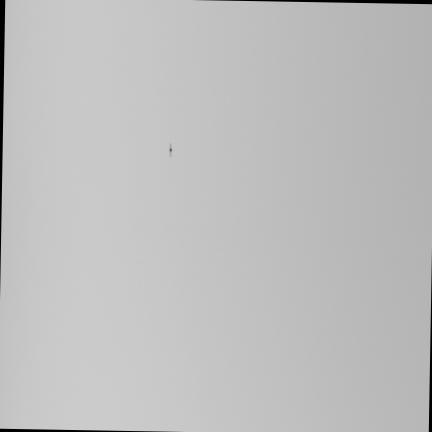Shahed: (168, 144, 171, 156)
